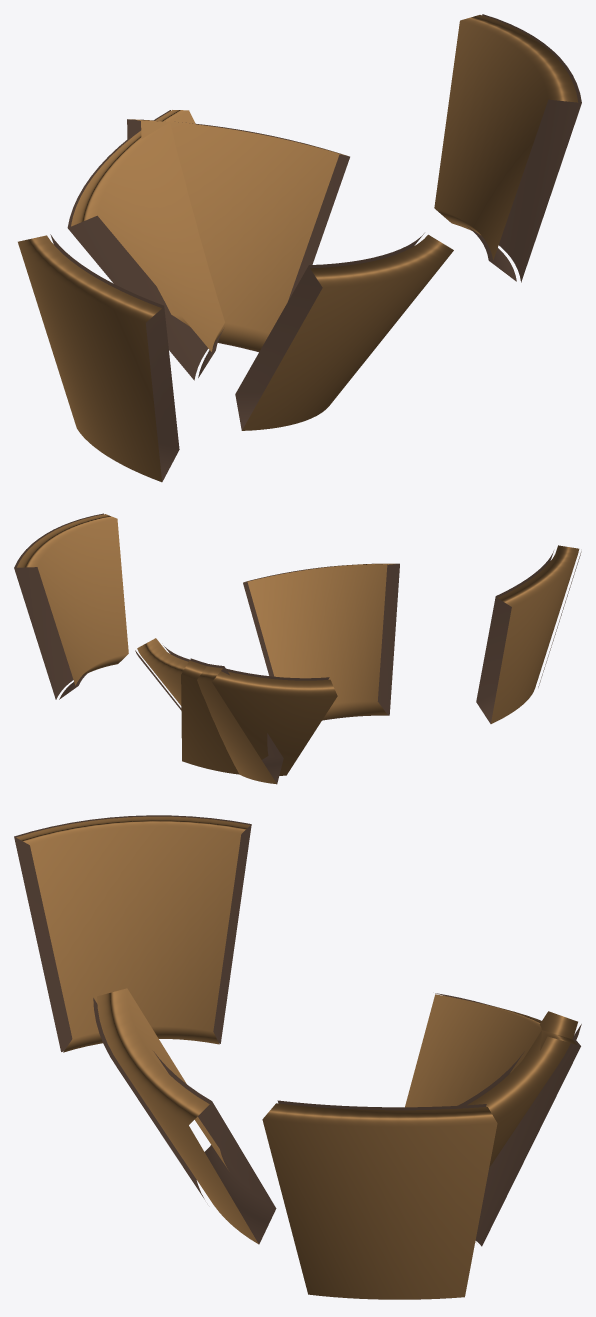
The model's file is prop_40001.glb.
The picture shows the model from 3 angles, top to bottom: view 1: azimuth 30°, elevation 25°; view 2: azimuth 150°, elevation 25°; view 3: azimuth 270°, elevation 25°; orthographic projection. The views are drawn at different scales.
Parts seen in each view (by area): view 1: prop_40001; view 2: prop_40001; view 3: prop_40001.
Boxes of the visible parts, left/top/right/bottom form: prop_40001: left=18, top=14, right=581, bottom=482; prop_40001: left=14, top=513, right=581, bottom=784; prop_40001: left=14, top=815, right=581, bottom=1299.
Size of the model in its own units: 0.83 by 0.3339 by 0.6346.
